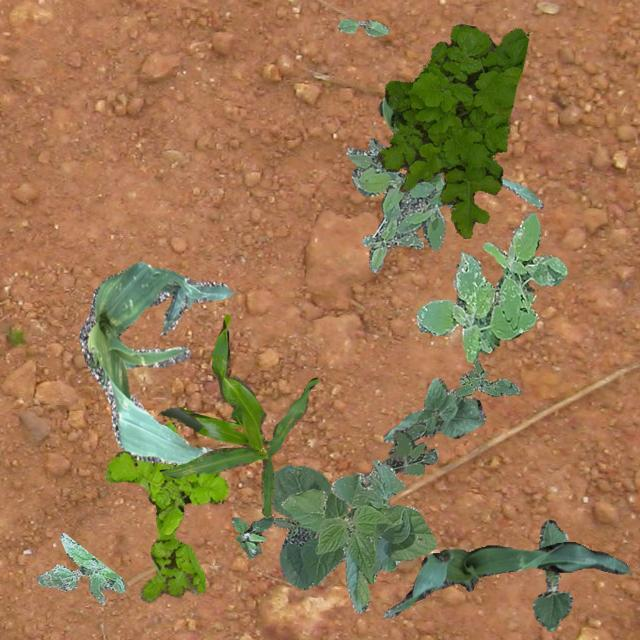crop: (158, 313, 318, 516), (77, 261, 232, 464), (280, 458, 434, 612), (382, 540, 628, 618), (378, 96, 542, 208), (272, 464, 348, 588), (382, 376, 484, 442), (532, 518, 572, 630), (337, 18, 388, 34)
weed: (377, 22, 528, 238), (416, 212, 566, 361), (105, 420, 226, 602), (346, 136, 444, 272), (36, 532, 125, 604), (362, 421, 438, 482), (452, 358, 520, 396), (230, 514, 272, 558)
